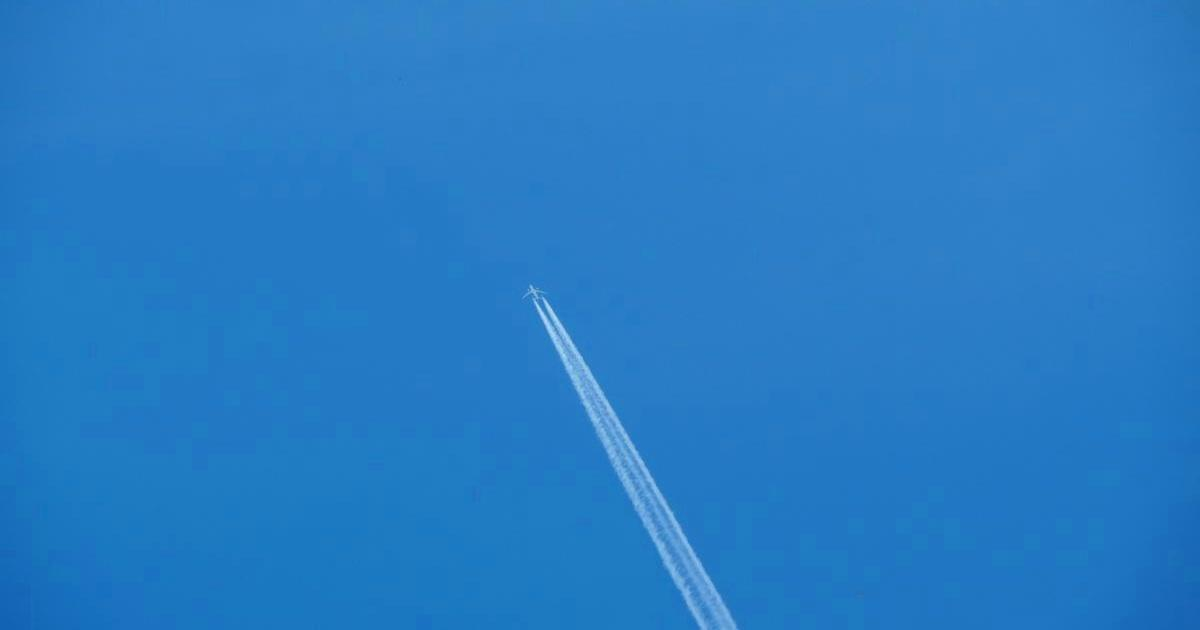Plane: (452, 267, 735, 609)
